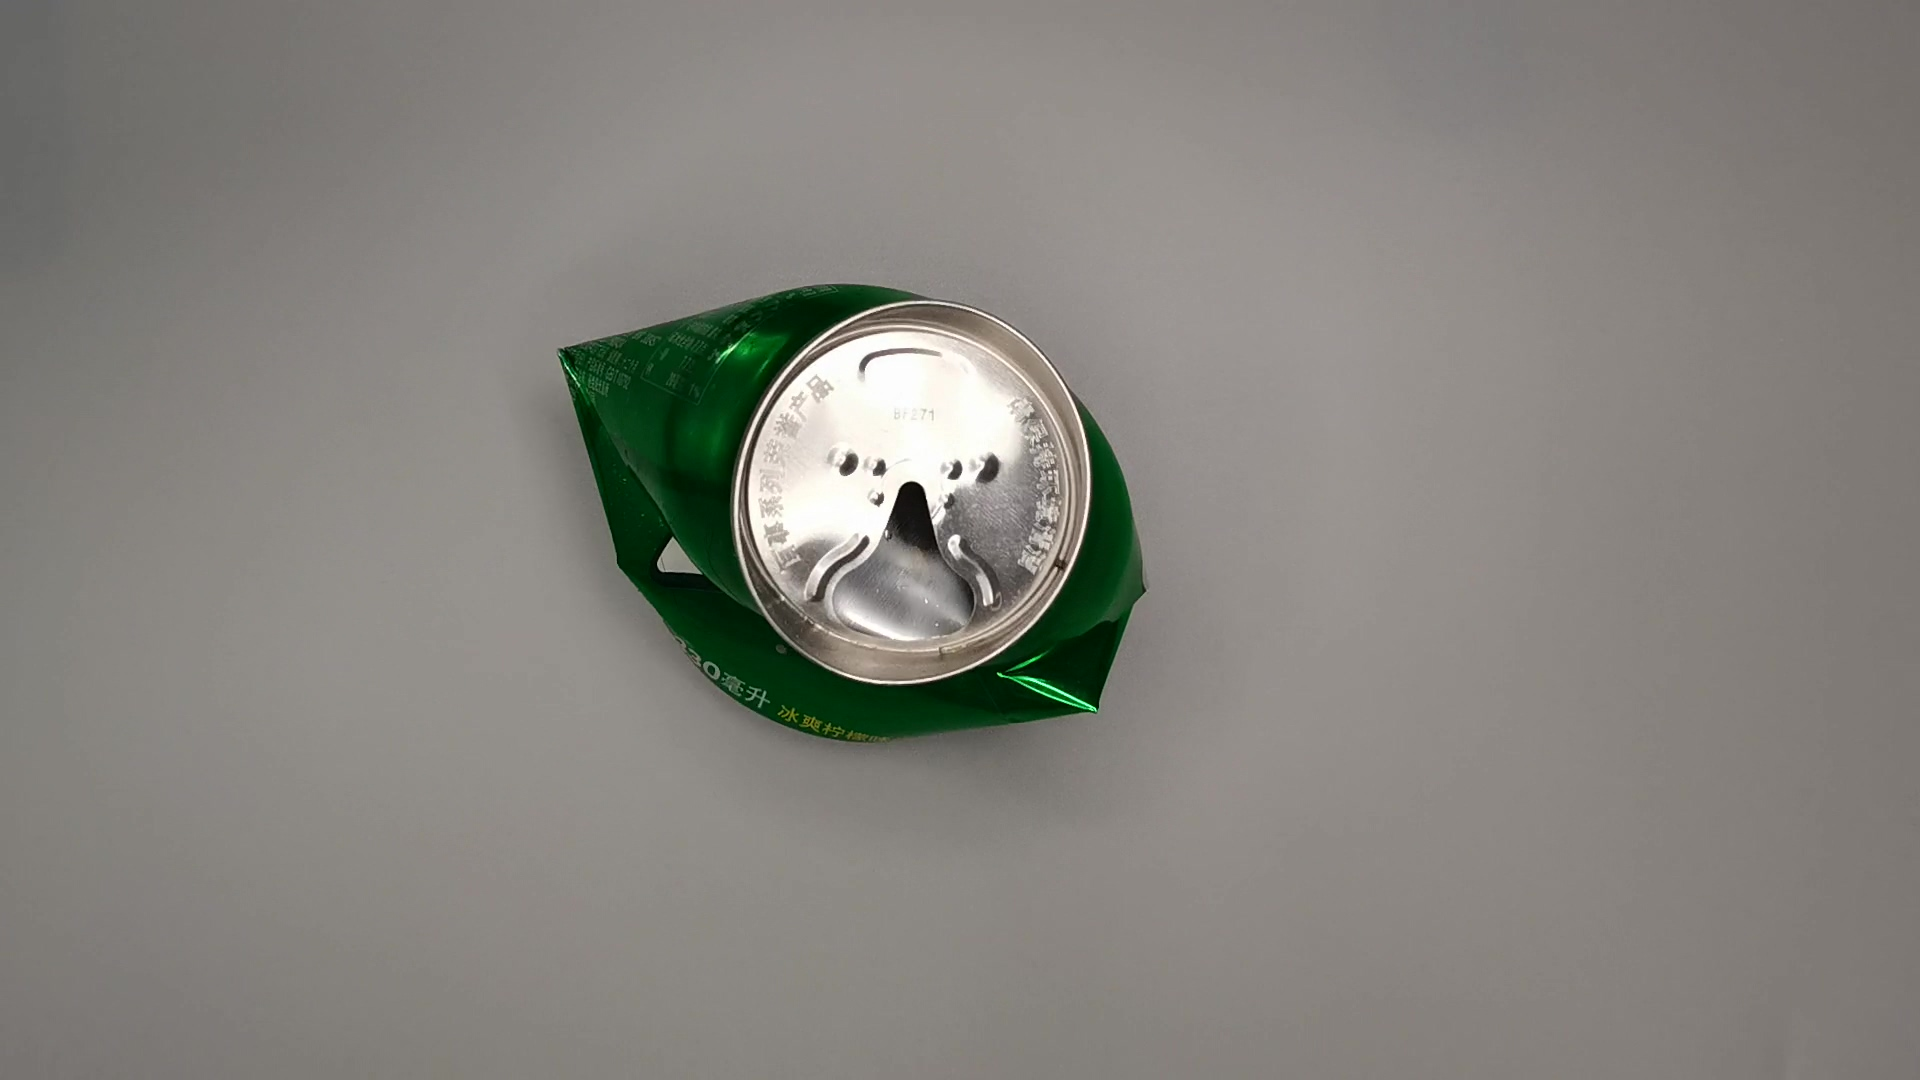can: (549, 282, 1163, 752)
